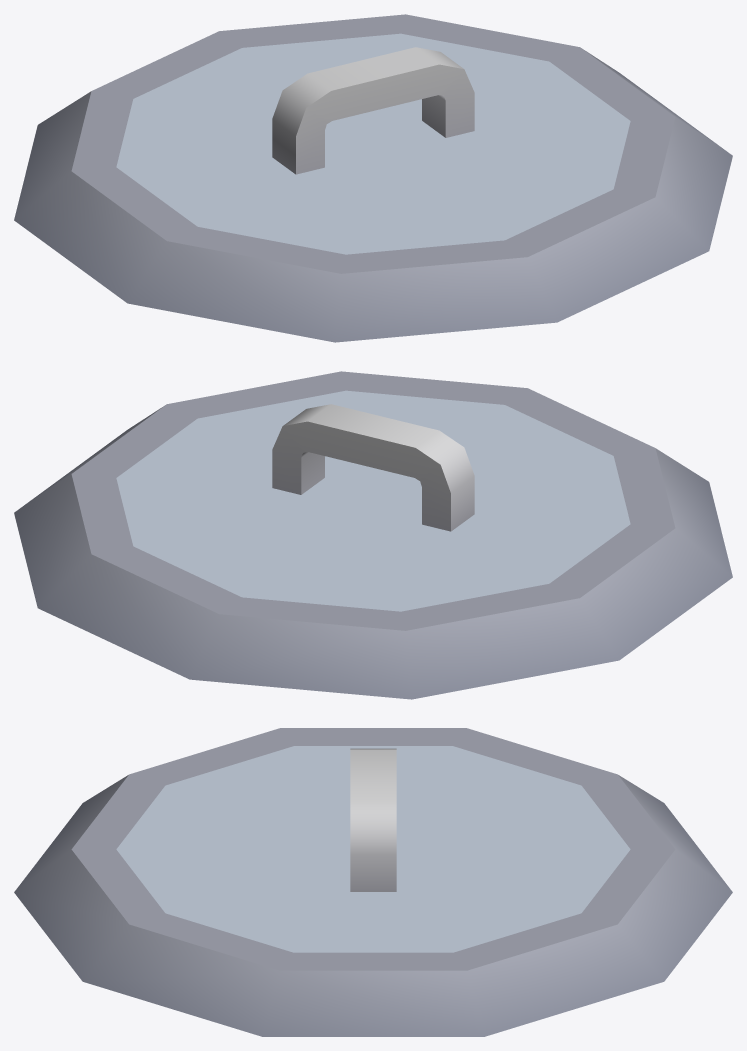
File: frying-pan-lid.glb
3 views of the same model, one above another, from view 1: azimuth 30°, elevation 25°; view 2: azimuth 150°, elevation 25°; view 3: azimuth 270°, elevation 25° (orthographic). The views are drawn at different scales.
Parts seen in each view (by area): view 1: frying-pan-lid; view 2: frying-pan-lid; view 3: frying-pan-lid.
Boxes of the visible parts, x1,y1,x2,y2 form: frying-pan-lid: [14, 14, 732, 342]; frying-pan-lid: [14, 371, 732, 699]; frying-pan-lid: [14, 728, 732, 1036].
Size of the model in its own units: 0.5767 by 0.1084 by 0.6064.
